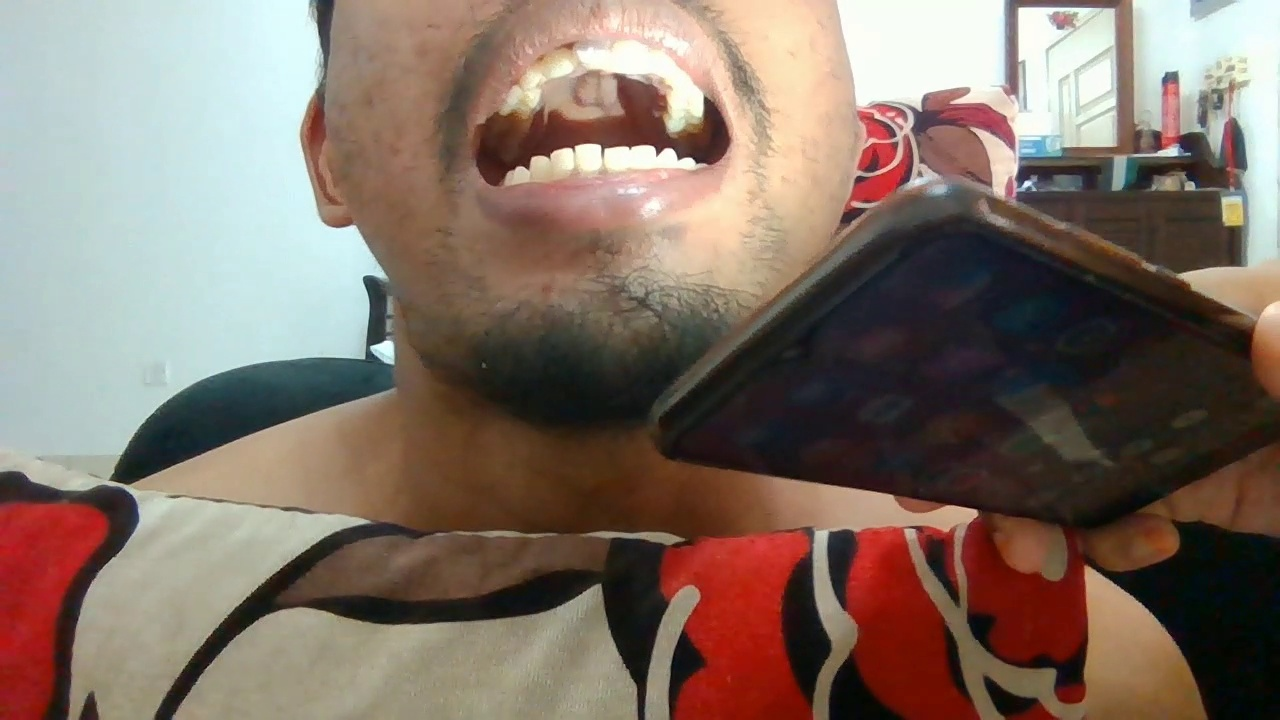1st Molar: (665, 116, 704, 130)
1st Premolar: (507, 86, 540, 105), (667, 88, 704, 104), (511, 164, 530, 184), (678, 155, 696, 171)
2nd Premolar: (499, 105, 532, 119), (667, 105, 703, 117), (504, 169, 512, 184)
Canine: (520, 62, 543, 89), (529, 155, 551, 182), (667, 69, 694, 89), (656, 146, 678, 168)
Central Incisor: (613, 39, 649, 75), (572, 40, 613, 71), (574, 142, 602, 175), (604, 146, 630, 173)
Lateral Incisor: (543, 48, 573, 78), (650, 49, 677, 78), (550, 147, 574, 178), (630, 143, 656, 171)
